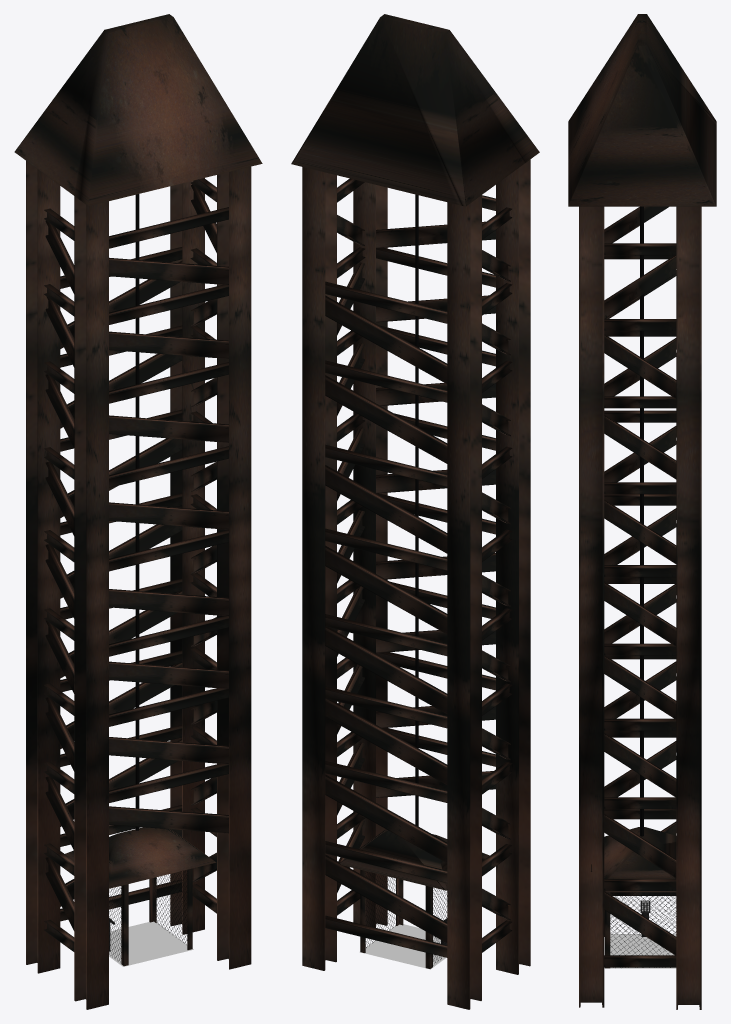
Rendered from mineShaftMud.fbx.
The picture shows the model from 3 angles, left to right: view 1: azimuth 30°, elevation 25°; view 2: azimuth 150°, elevation 25°; view 3: azimuth 270°, elevation 25°; orthographic projection.
Visible parts, largest first — view 1: pCube2, pasted__pCube45, pasted__pCube24, pasted__pCube3, pasted__pCube4, pasted__pCube85, pCube33, pCube36, pasted__pCube38, pasted__pCube39, pCube34, pCube35 (+33 smaller); view 2: pasted__pCube45, pasted__pCube3, pasted__pCube4, pCube2, pasted__pCube24, pasted__pCube19, pasted__pCube20, pasted__pCube15, pasted__pCube18, pasted__pCube21, pasted__pCube17, pasted__pCube14 (+28 smaller); view 3: pasted__pCube45, pasted__pCube4, pasted__pCube24, pasted__pCube85, pCube86, pasted__pCube25, pasted__pCube30, pasted__pCube27, pasted__pCube31, pasted__pCube23, pasted__pCube28, pasted__pCube29 (+28 smaller).
Boxes of the visible parts, x1,y1,x2,y2 form: pCube2: (74,196,108,1009); pasted__pCube45: (14,14,262,206); pasted__pCube24: (217,166,251,969); pasted__pCube3: (26,161,60,973); pasted__pCube4: (170,178,204,934); pasted__pCube85: (65,827,216,888); pCube33: (109,806,228,833); pCube36: (109,589,228,616); pasted__pCube38: (109,415,228,442); pasted__pCube39: (109,331,228,358); pCube34: (109,737,228,764); pCube35: (109,661,228,688); pasted__pCube45: (291,14,539,206); pasted__pCube3: (447,195,481,1009); pasted__pCube4: (302,167,336,970); pCube2: (496,159,530,974); pasted__pCube24: (353,182,387,927); pasted__pCube19: (325,465,447,553); pasted__pCube20: (325,375,447,463); pasted__pCube15: (325,774,447,862); pasted__pCube18: (325,545,447,634); pasted__pCube21: (325,295,447,383); pasted__pCube17: (325,626,447,713); pasted__pCube14: (325,854,447,942); pasted__pCube45: (568,14,716,206); pasted__pCube4: (676,206,701,1009); pasted__pCube24: (579,206,604,1007); pasted__pCube85: (604,827,676,892); pCube86: (640,206,643,836); pasted__pCube25: (604,813,676,878); pasted__pCube30: (604,414,676,479); pasted__pCube27: (604,655,676,719); pasted__pCube31: (604,334,676,398); pasted__pCube23: (604,891,676,955); pasted__pCube28: (604,582,676,646); pasted__pCube29: (604,499,676,563).
Bounding box in the file's own units: 69.63 × 360 × 51.24.
